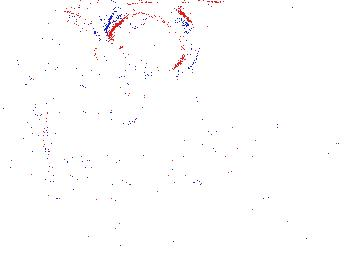moon jellyfish: (14, 8, 113, 86), (104, 1, 201, 76), (183, 48, 266, 104)
